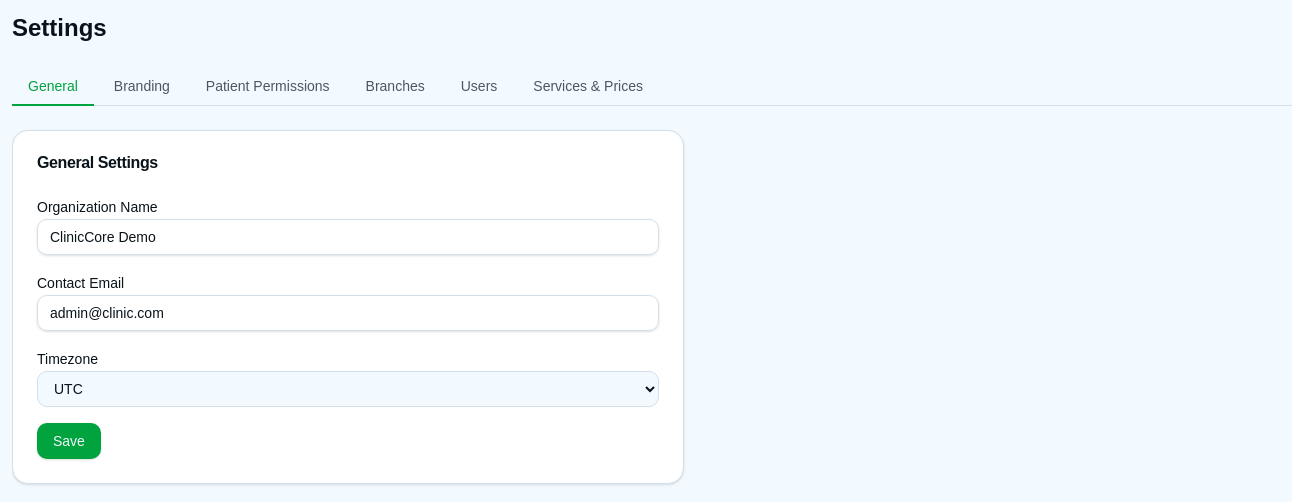
Test: SettingsPage › switching to Patient Permissions shows toggle
Expected: the field labelled "Organization Name" is shown, [37,219,659,255]
What coordinates should you click on to do the following:
click the button "Patient Permissions"
I would click on:
 (268, 87)
Its box is [190,68,346,106].
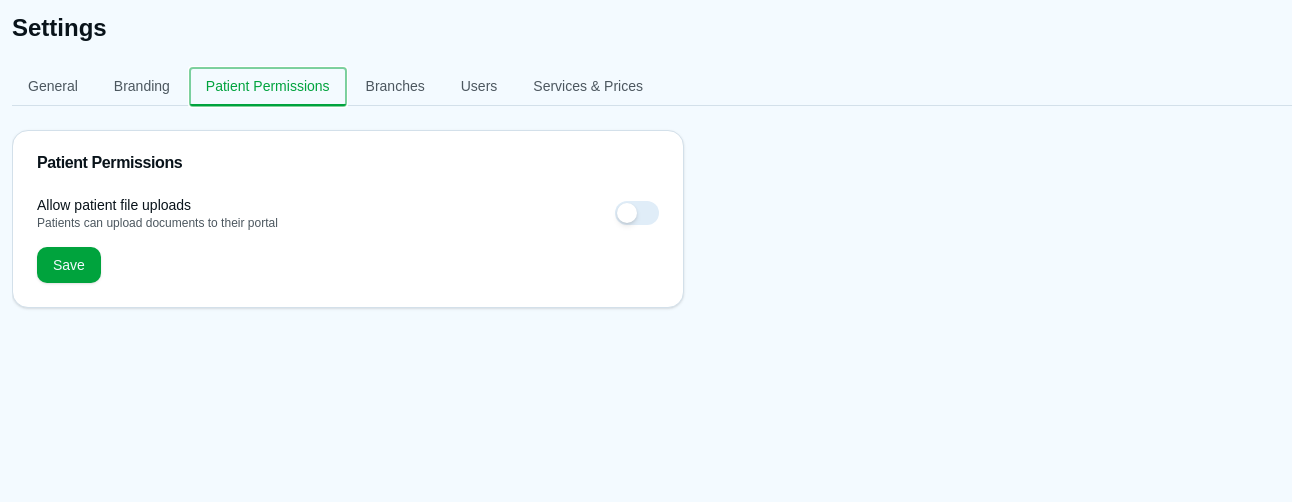
Expected: the switch is shown, [615,201,659,225]
